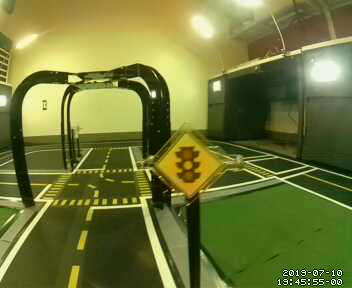Traffic light sign: (158, 132, 222, 201)
